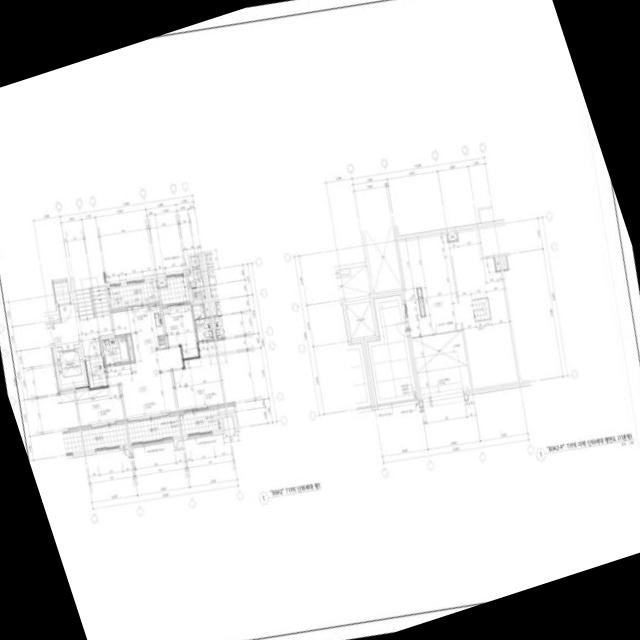background: (0, 0, 640, 640)
space_balconi: (108, 276, 190, 309), (127, 415, 180, 443), (82, 423, 128, 450), (180, 408, 225, 435)
space_bedroom: (173, 341, 224, 411), (163, 305, 199, 359), (76, 386, 124, 426)
space_elevator: (346, 302, 376, 339), (56, 348, 85, 385)
space_elevator_hall: (46, 304, 113, 357)
space_front: (86, 358, 109, 388)
space_kitchen: (141, 306, 167, 352)
space_living_room: (107, 309, 183, 419)
space_other: (189, 255, 204, 287), (127, 335, 134, 362), (418, 289, 425, 316), (192, 287, 206, 300), (44, 314, 59, 323), (157, 279, 167, 287), (204, 303, 210, 316), (501, 256, 507, 269), (495, 257, 501, 270), (211, 302, 217, 315), (448, 233, 457, 241)
space_staircase: (73, 272, 110, 321), (472, 298, 491, 321)
space_toilet: (102, 337, 130, 365), (193, 304, 214, 341)
